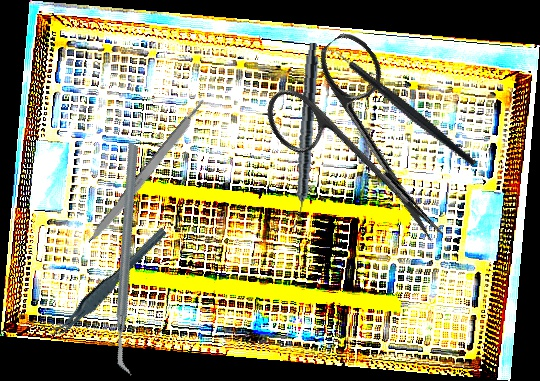Chopper: (34, 141, 226, 377), (317, 10, 478, 204)
Handpiece: (290, 42, 320, 229)
Iris Scissors: (251, 25, 490, 277)
Scalpel Handle: (85, 96, 211, 248)
Tissue Forceps: (39, 226, 178, 341)
